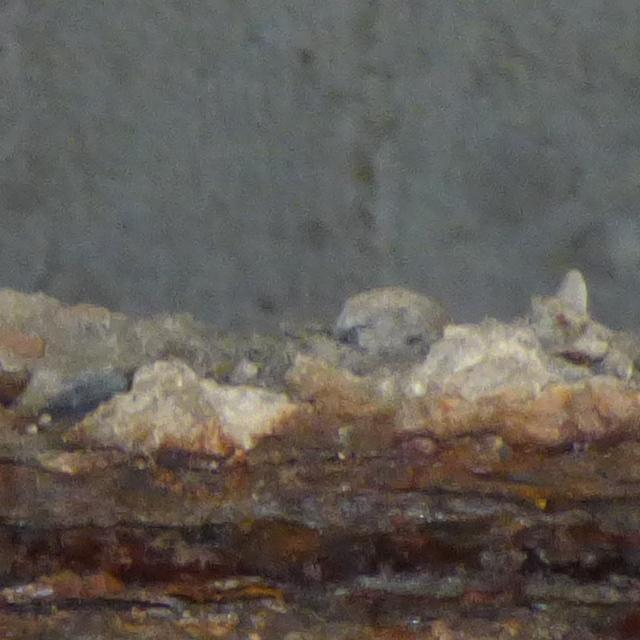Rust: (4, 424, 635, 634)
